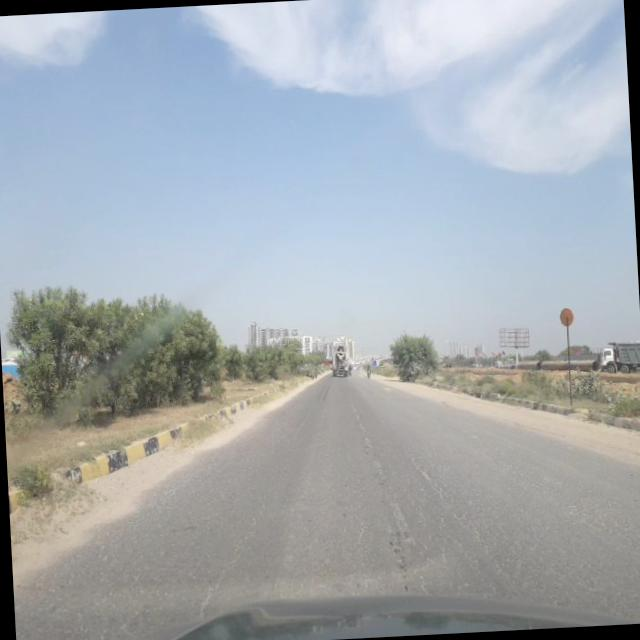crack: (73, 449, 640, 618), (191, 498, 266, 600), (407, 451, 482, 553)
